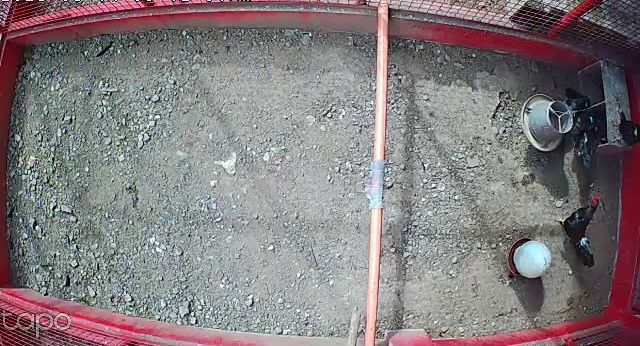Chicken: (569, 123, 605, 180)
Rooster: (553, 193, 601, 270)
Saddle_Color_Blue: (590, 116, 593, 122)
